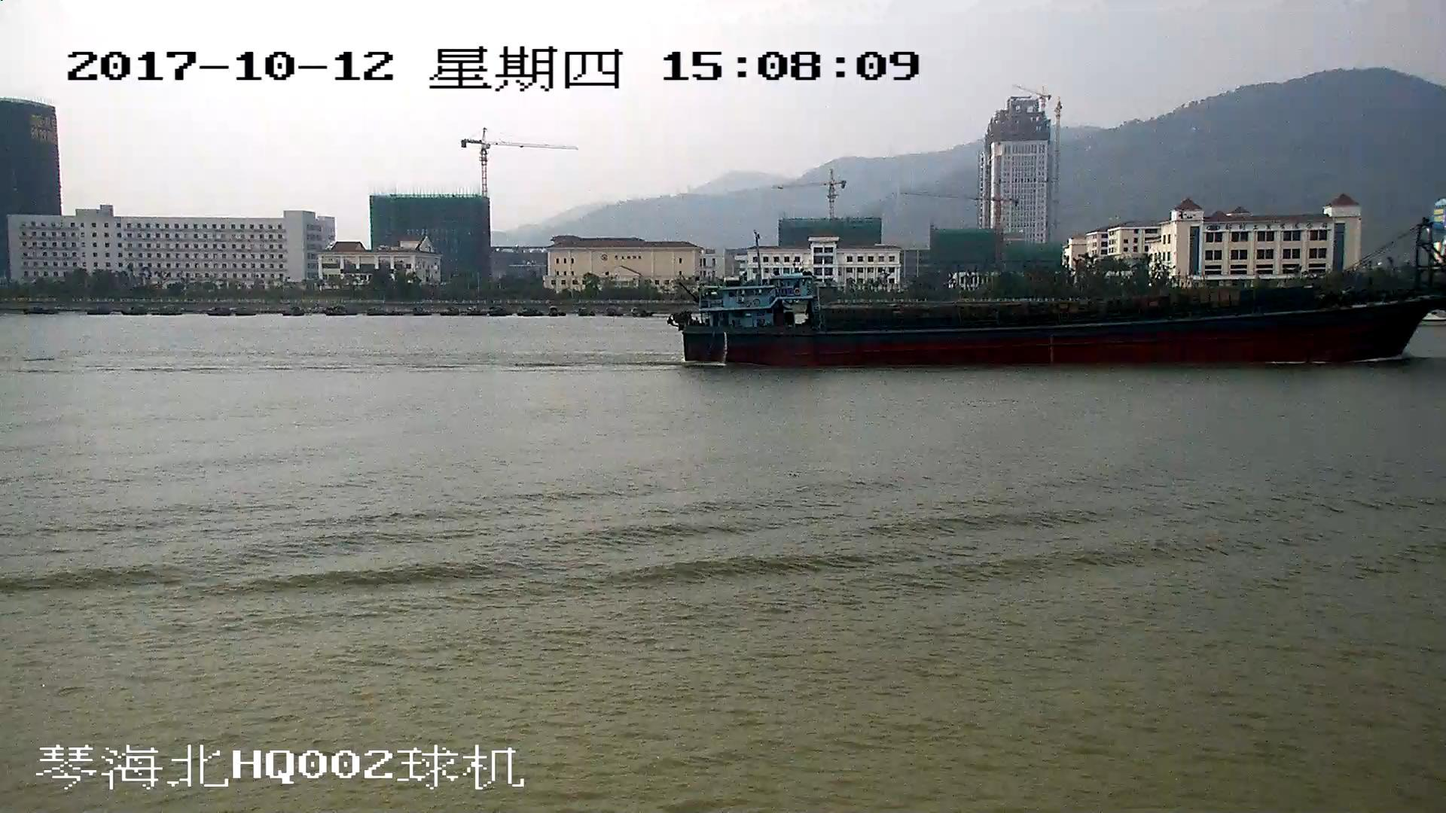bulk cargo carrier: (673, 218, 1445, 365)
